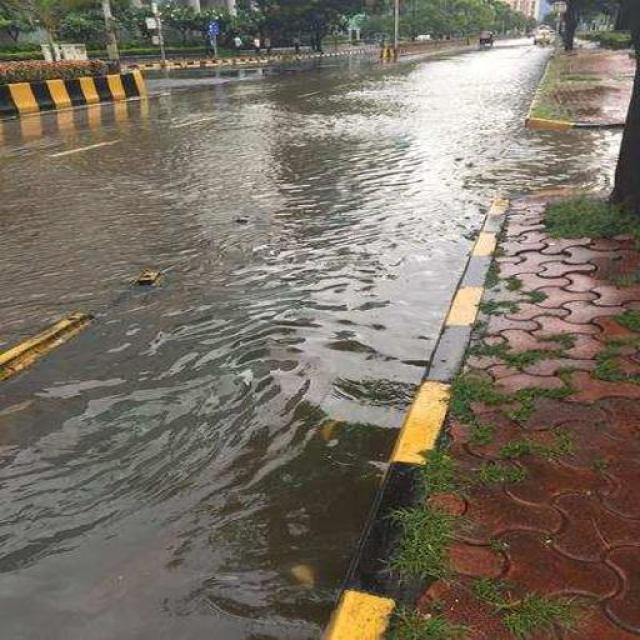puddle: (2, 123, 326, 640), (248, 74, 424, 365), (435, 54, 454, 302)
